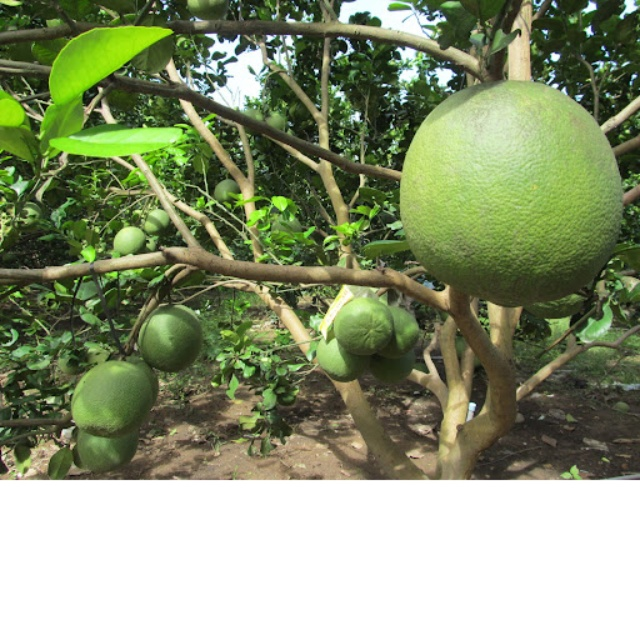buoi: (398, 78, 626, 309), (68, 359, 158, 439), (135, 302, 203, 377)
